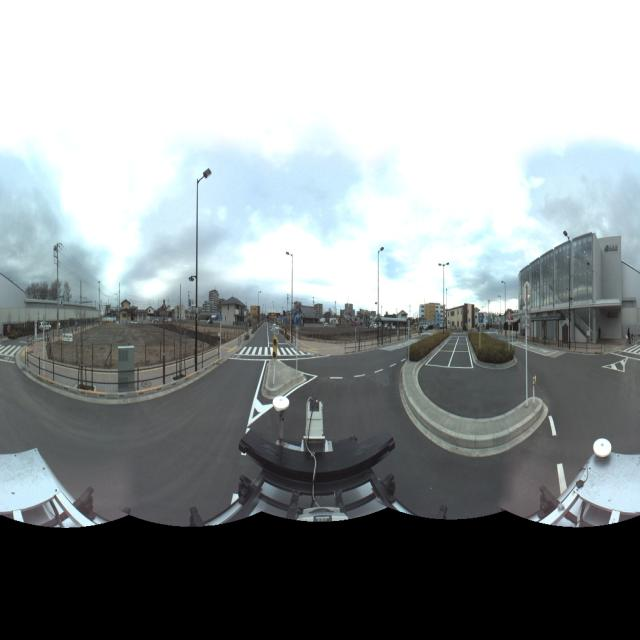b_1: (516, 219, 623, 352), (205, 285, 246, 332), (446, 299, 484, 343), (292, 293, 327, 330), (485, 305, 525, 334), (415, 294, 447, 330), (121, 292, 140, 324)
